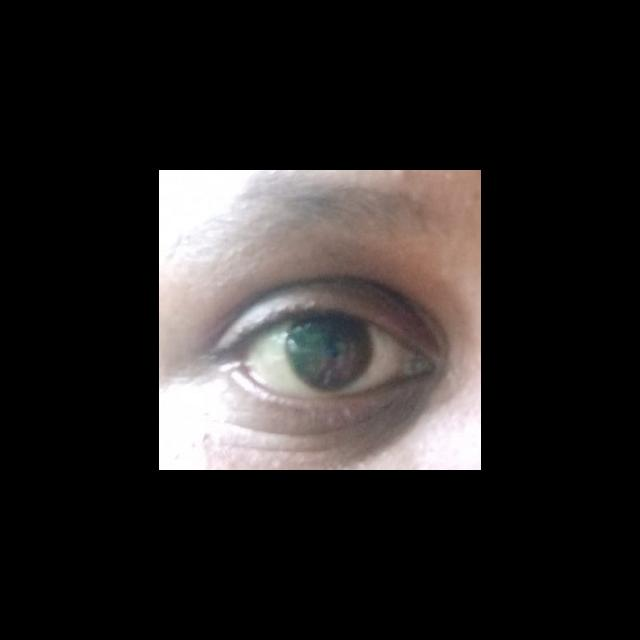eye: (242, 315, 409, 400)
iris: (286, 317, 373, 391)
